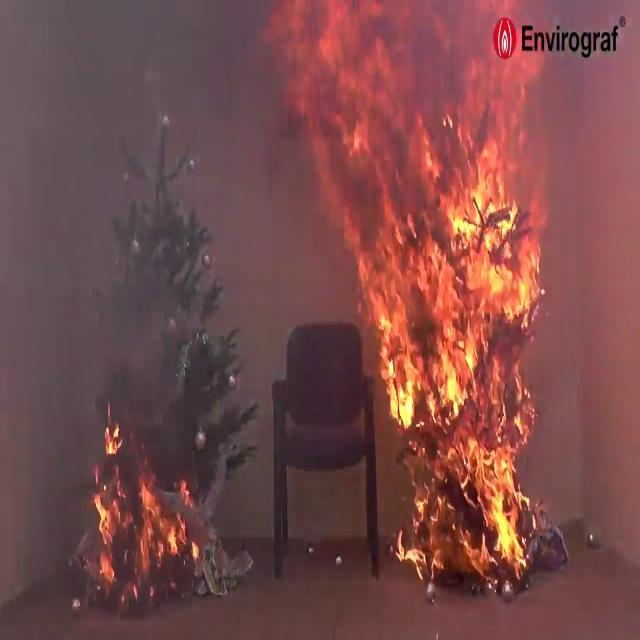Fire: (300, 0, 559, 580), (72, 436, 204, 614)
Smoke: (0, 0, 241, 452)
